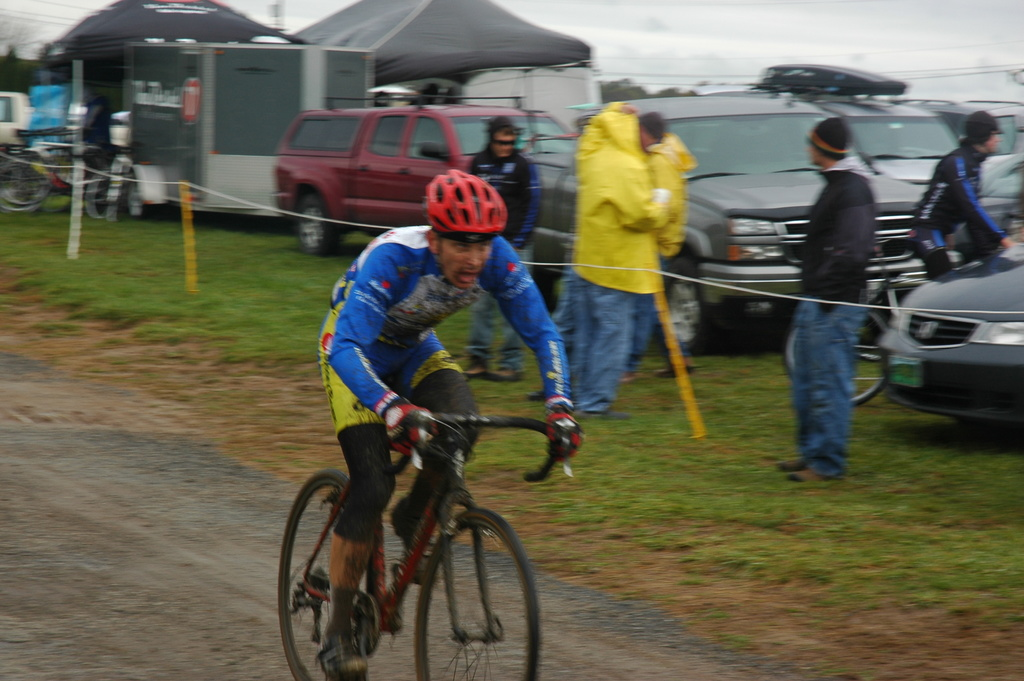Bike: (264, 406, 599, 681)
